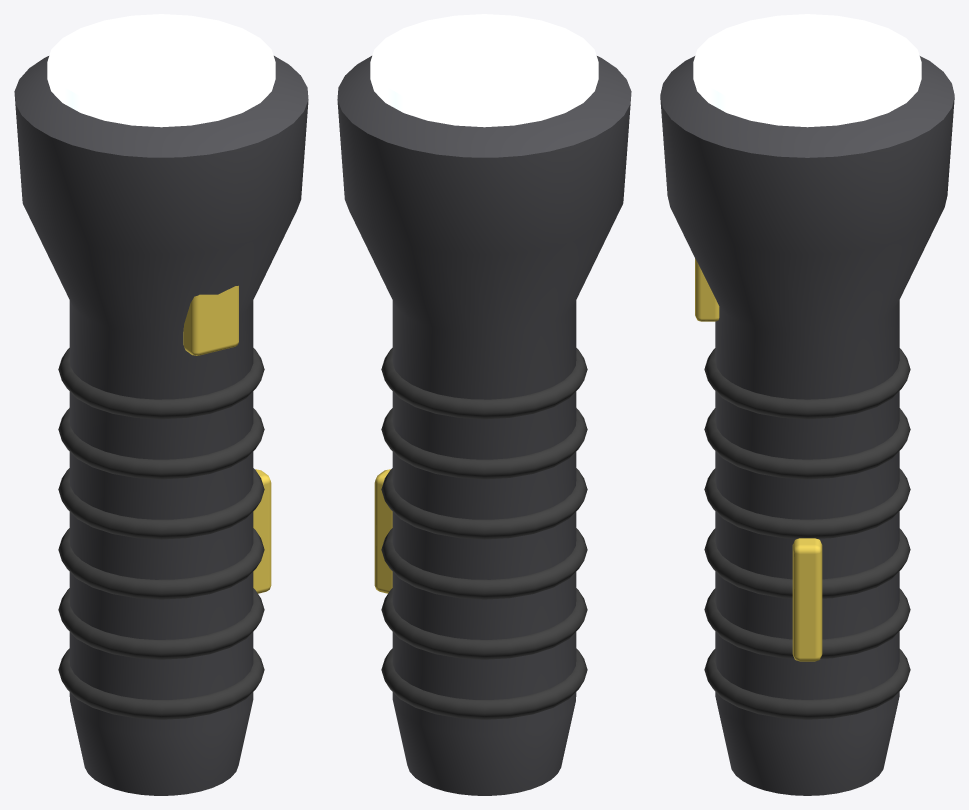
Rendered from paranormal-investigation-house-uv-torch-ffca4f1c__26772.glb.
The picture shows the model from 3 angles, left to right: view 1: azimuth 30°, elevation 25°; view 2: azimuth 150°, elevation 25°; view 3: azimuth 270°, elevation 25°; orthographic projection.
Visible parts, largest first — view 1: uv-torch; view 2: uv-torch; view 3: uv-torch.
Boxes of the visible parts, x1,y1,x2,y2 form: uv-torch: (14, 14, 308, 795); uv-torch: (337, 14, 631, 795); uv-torch: (660, 14, 954, 795).
Bounding box in the file's own units: 0.08 × 0.21 × 0.08.
